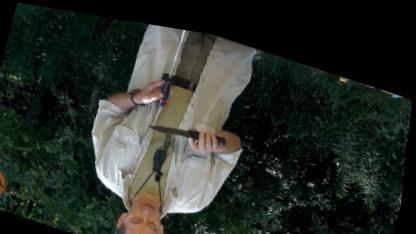knife: (145, 107, 230, 154)
